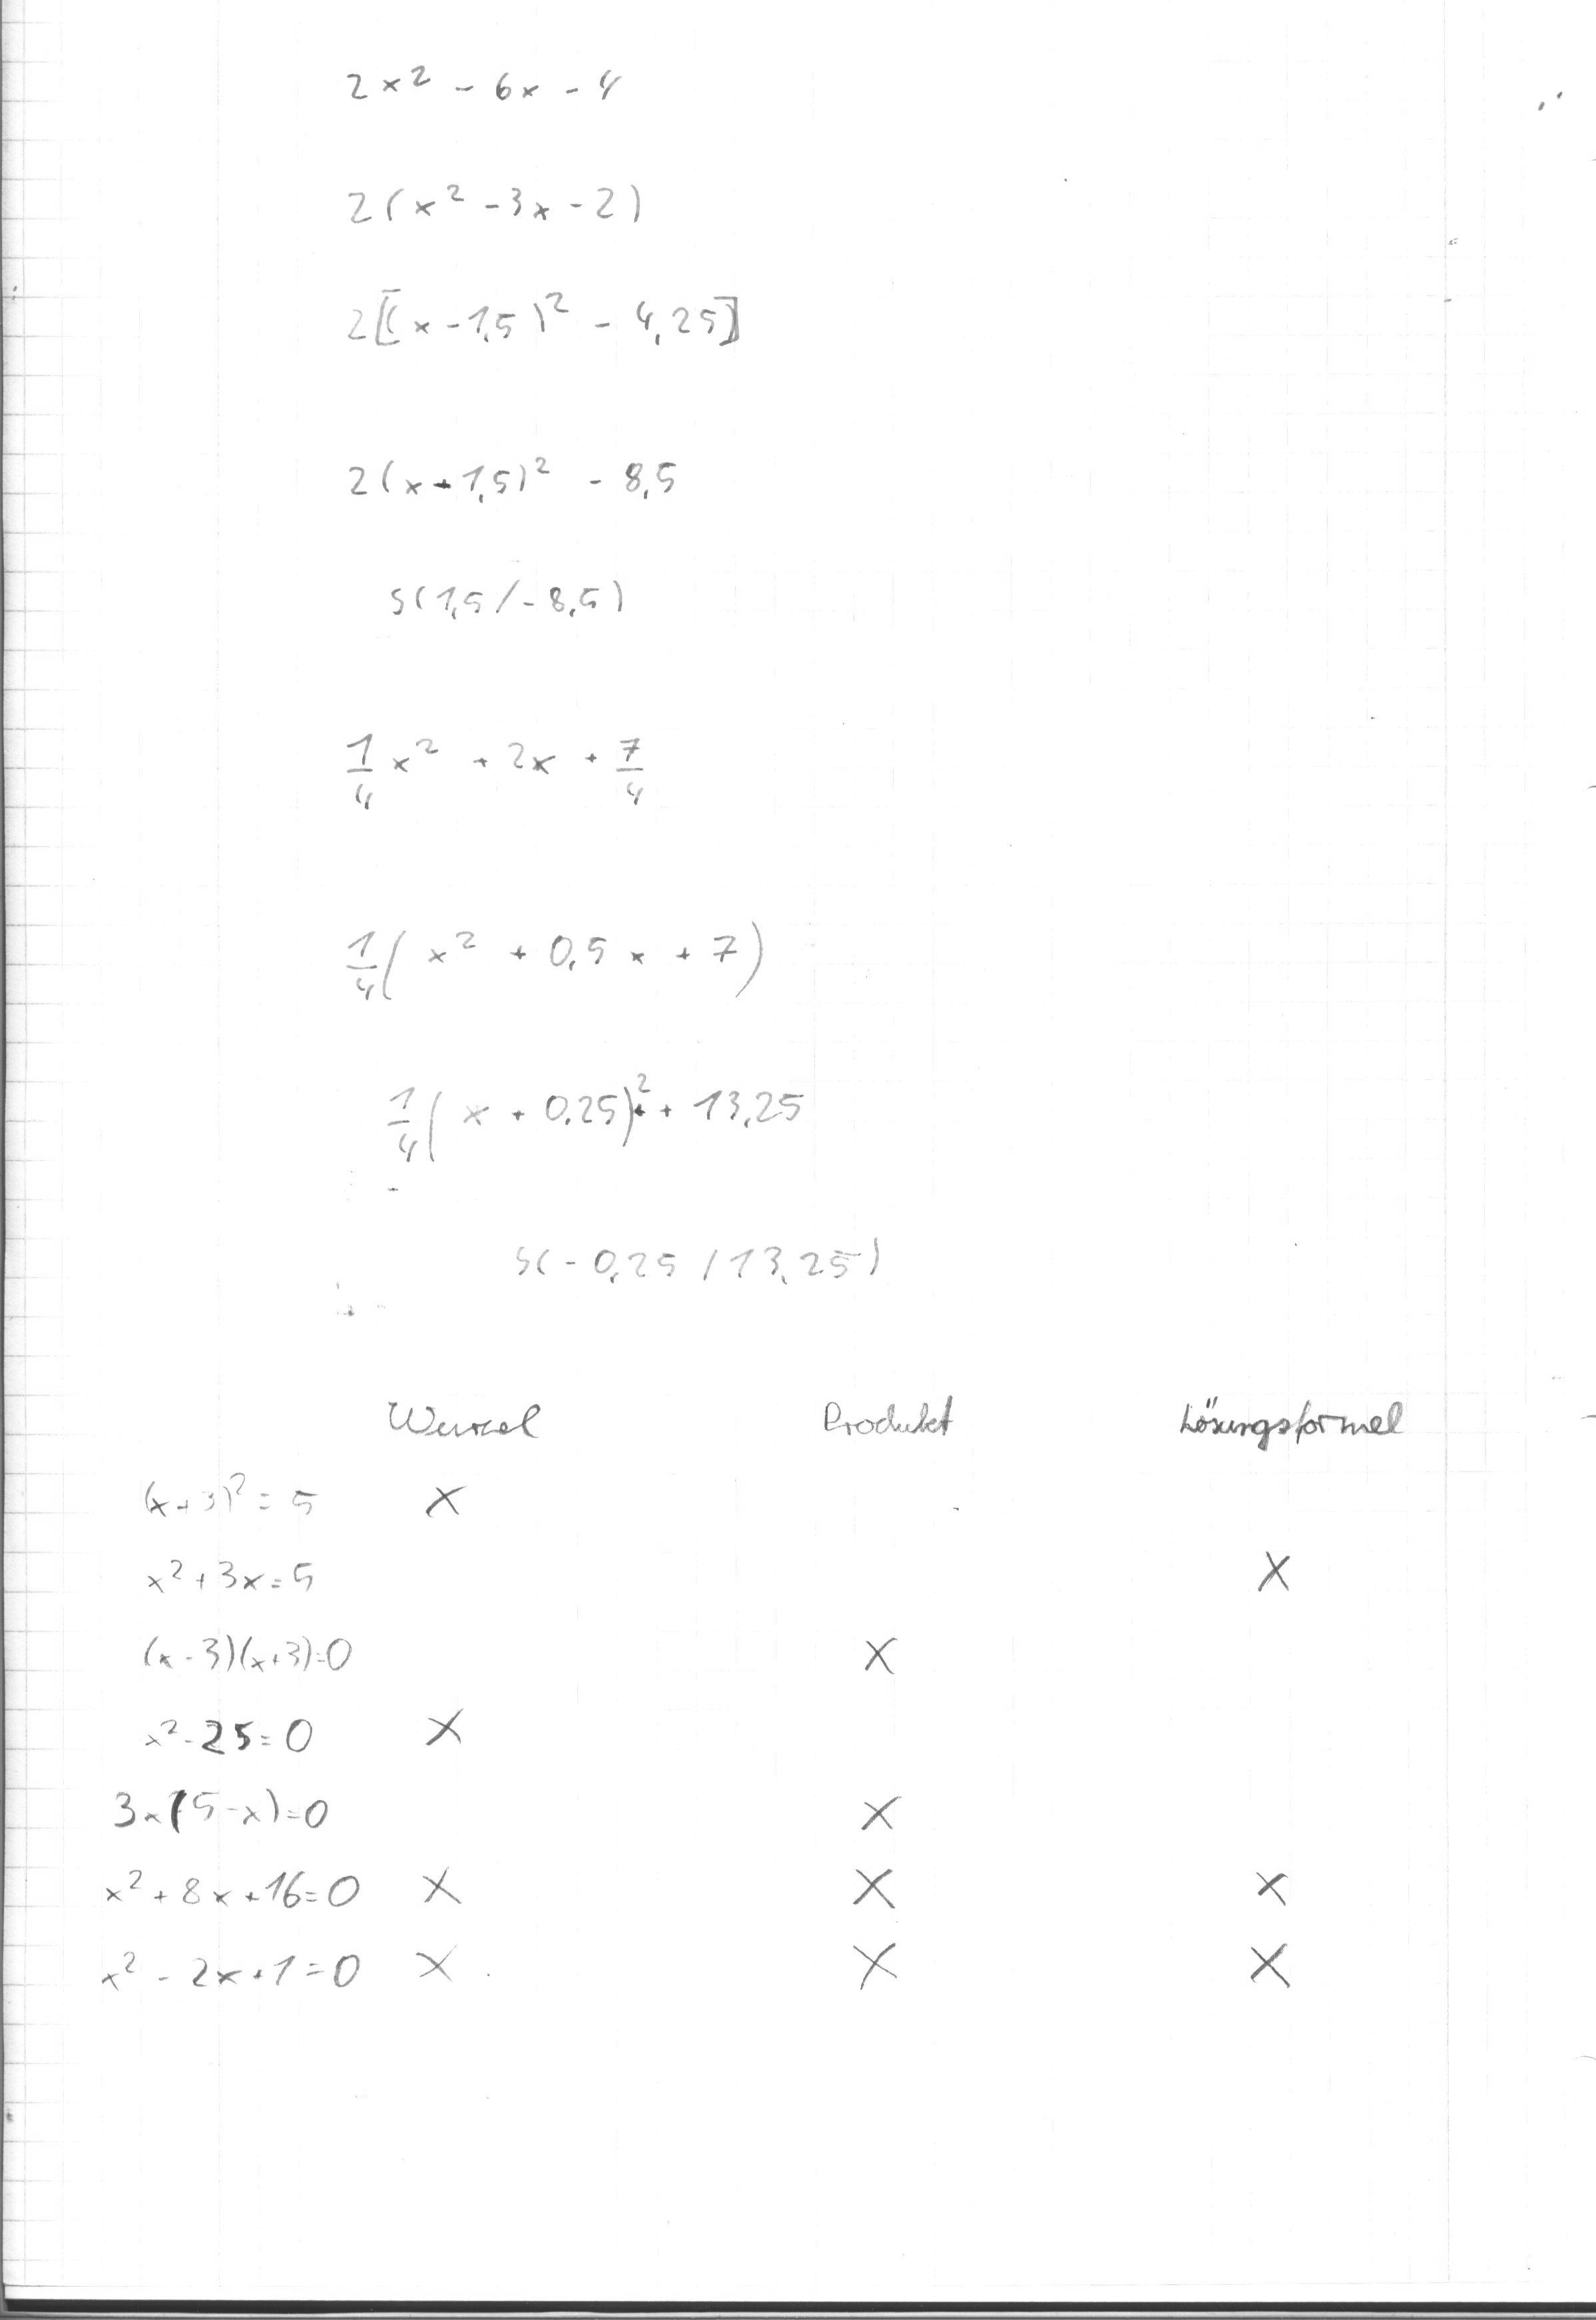word: (315, 50, 776, 386), (319, 422, 700, 652), (300, 888, 802, 1030), (365, 1054, 821, 1198), (305, 693, 676, 860), (482, 1211, 900, 1322)
